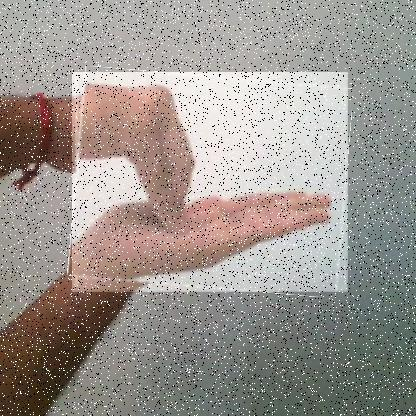Z: (72, 72, 349, 293)
